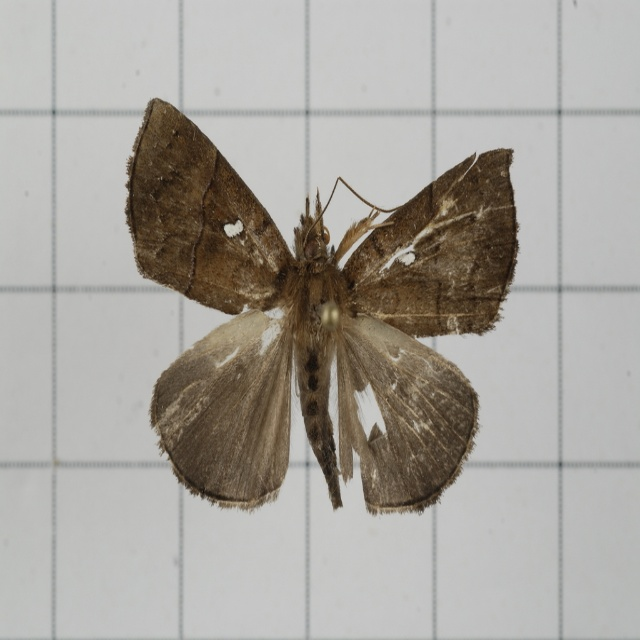Butterfly: (127, 97, 520, 514)
